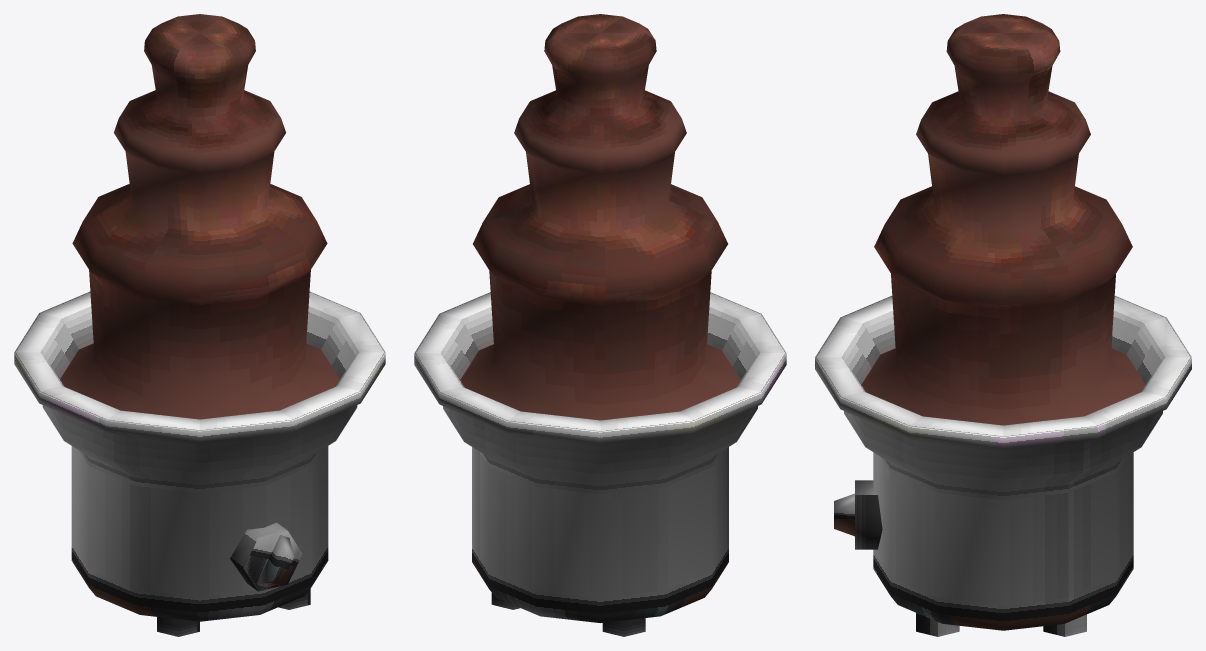
File: rmk_oth_fondue.dae
The picture shows the model from 3 angles, left to right: view 1: azimuth 30°, elevation 25°; view 2: azimuth 150°, elevation 25°; view 3: azimuth 270°, elevation 25°; orthographic projection.
Parts seen in each view (by area): view 1: rmk_oth_fondue; view 2: rmk_oth_fondue; view 3: rmk_oth_fondue.
Boxes of the visible parts, box(x1,y1,x2,y2) form: rmk_oth_fondue: box(14, 14, 385, 636); rmk_oth_fondue: box(414, 14, 786, 636); rmk_oth_fondue: box(815, 14, 1191, 636).
Size of the model in its own units: 16.6 by 27.47 by 16.6.
Materials: 2 (2 with a texture image).
